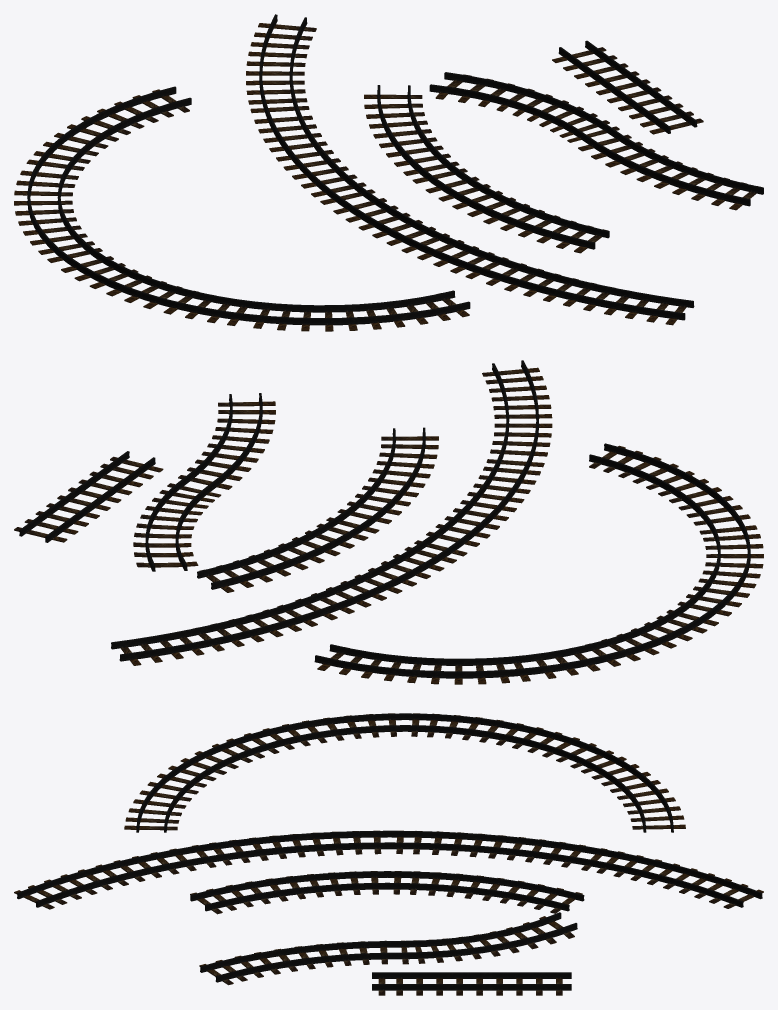
File: railroad.obj
3 views of the same model, one above another, from view 1: azimuth 30°, elevation 25°; view 2: azimuth 150°, elevation 25°; view 3: azimuth 270°, elevation 25° (orthographic). The views are drawn at different scales.
Parts seen in each view (by area): view 1: Track_01polySurface161_Mesh; view 2: Track_01polySurface161_Mesh; view 3: Track_01polySurface161_Mesh.
Boxes of the visible parts, bbox=[...] form: Track_01polySurface161_Mesh: bbox=[14, 14, 763, 331]; Track_01polySurface161_Mesh: bbox=[14, 360, 763, 684]; Track_01polySurface161_Mesh: bbox=[14, 713, 763, 995].
Size of the model in its own units: 5.01 by 0.0512 by 5.64.
Materials: 1 (1 with a texture image).
